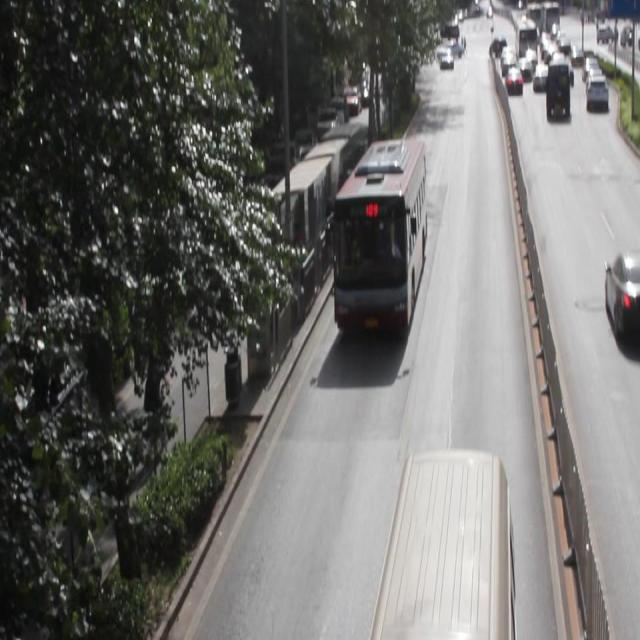BigCar: (377, 416, 526, 640), (329, 142, 453, 362), (504, 9, 541, 72)
car: (603, 242, 640, 359), (544, 64, 578, 134), (498, 58, 529, 97), (584, 76, 610, 122)
